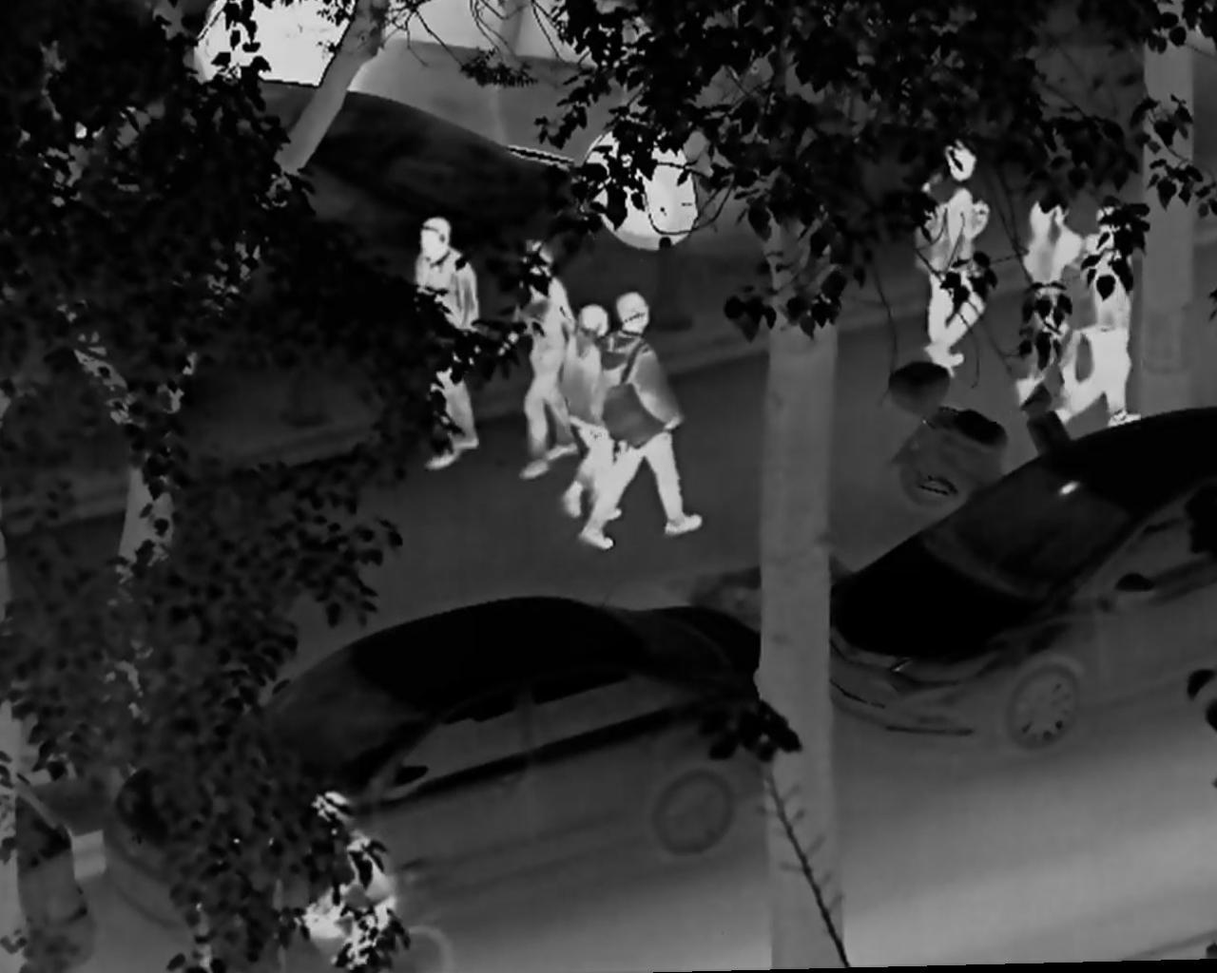person: (578, 288, 701, 552), (1050, 195, 1146, 437), (394, 216, 483, 474), (276, 784, 393, 973), (906, 136, 987, 381), (497, 238, 578, 476), (1010, 189, 1086, 409), (555, 296, 626, 524)
